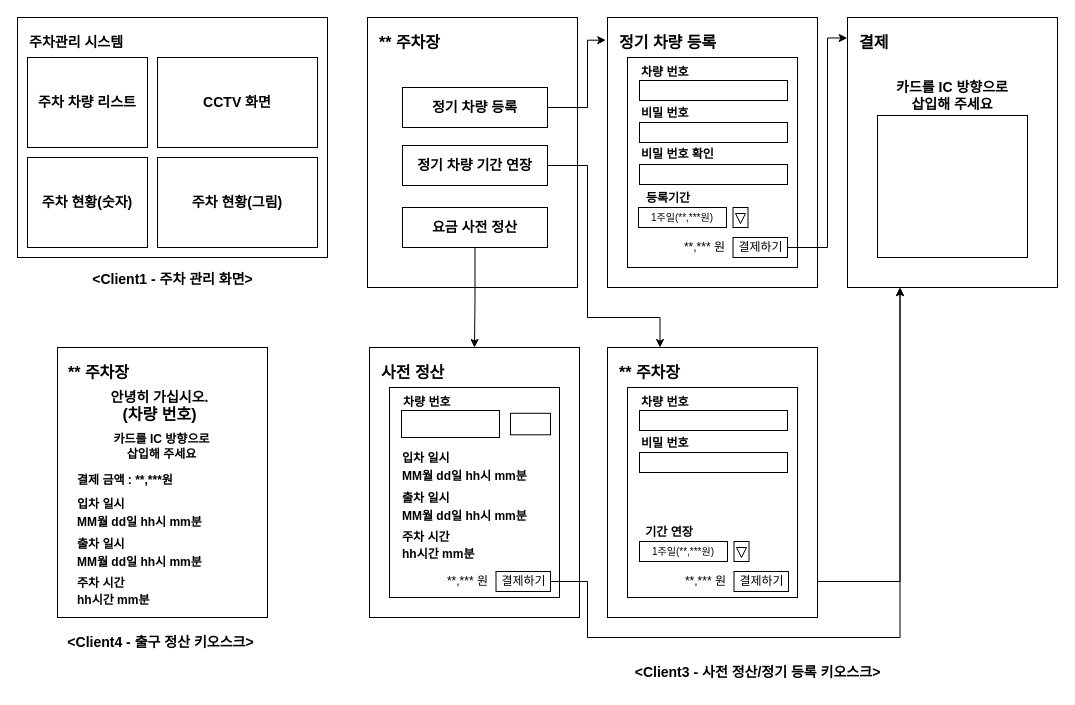
Image size: 1075x705. Some labels were removed from this diagram. The shapes that lost their labels are listed below. From the top down, each one's box as (x1, y1, x2, y2) in pixels, then its label:
(876, 114, 1028, 258): 그림
(510, 412, 550, 435): 입력
